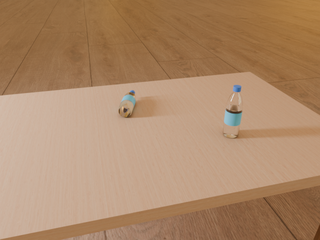bottle: (223, 85, 243, 138), (118, 90, 136, 117)
